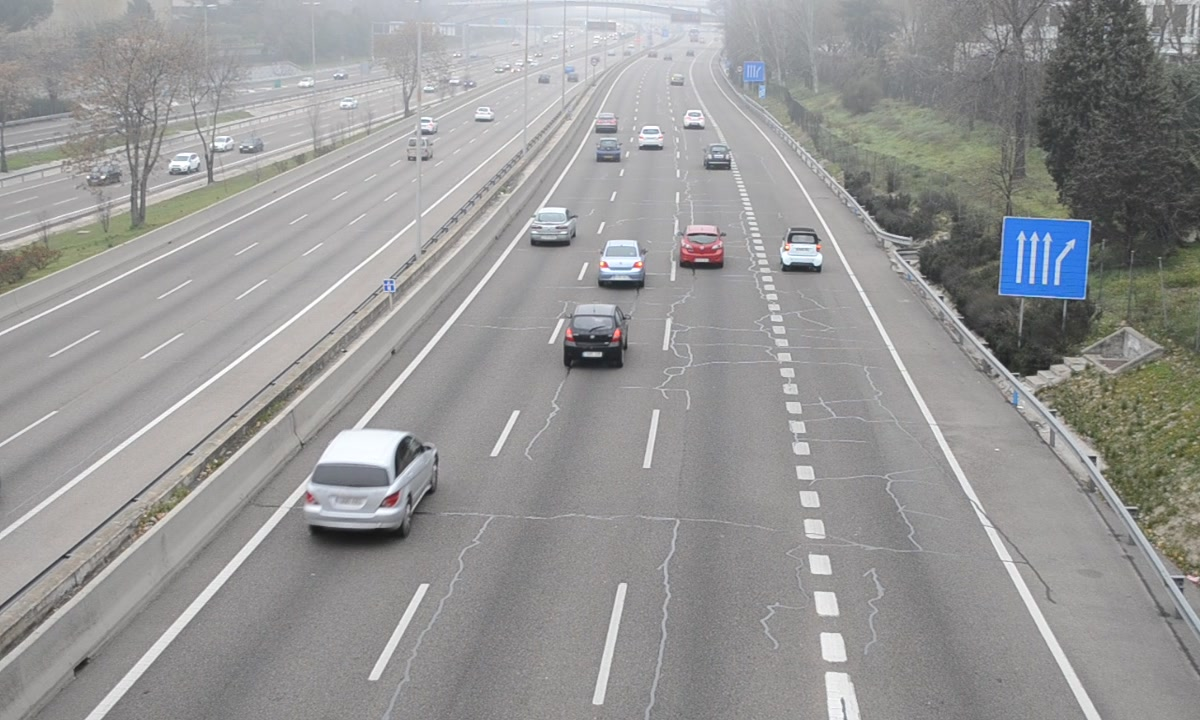car: (300, 431, 435, 536), (564, 303, 630, 370), (597, 240, 648, 292), (679, 225, 727, 269), (780, 228, 824, 274), (529, 207, 577, 248), (703, 143, 733, 170), (595, 137, 624, 164), (637, 124, 665, 151), (593, 111, 619, 134), (682, 110, 707, 132)
